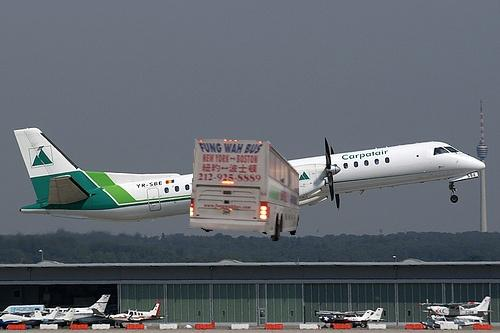tampered: (190, 140, 299, 241)
